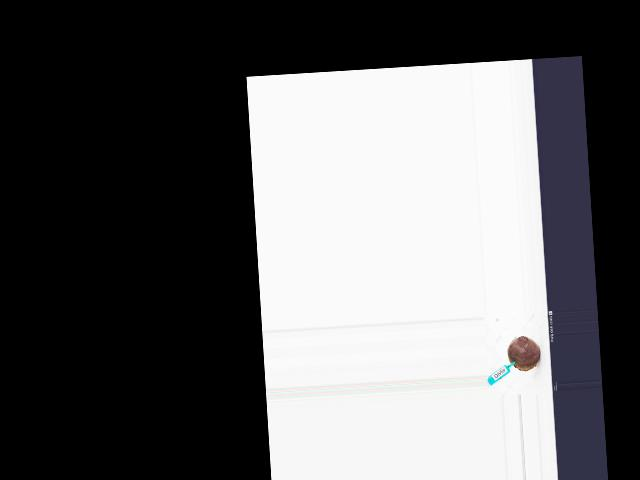beet: (506, 335, 541, 371)
